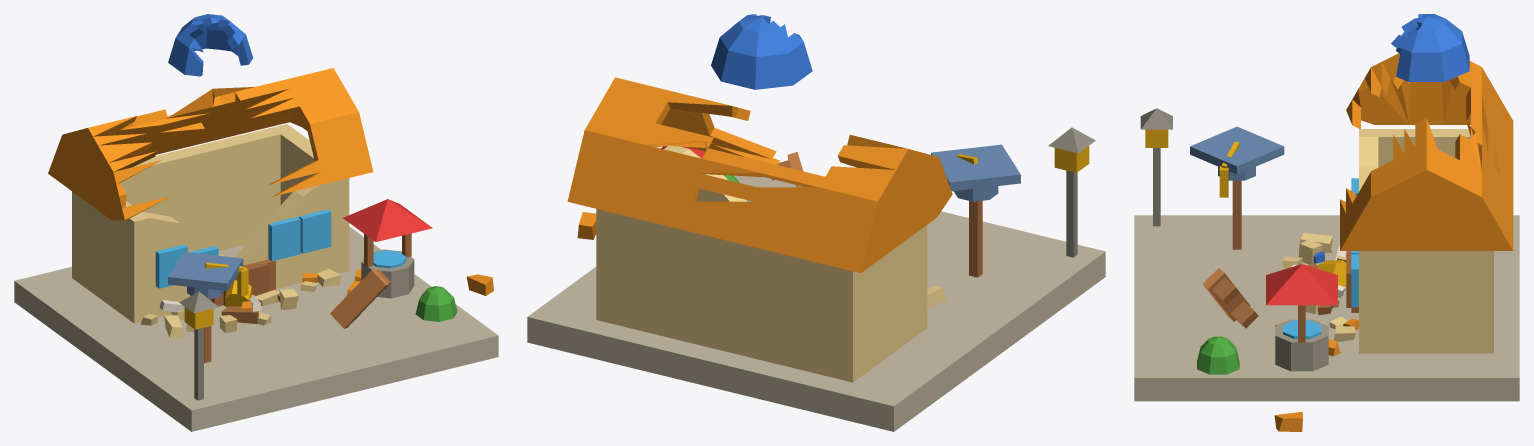
The model's file is university_t1_v3_dmg1.glb.
The picture shows the model from 3 angles, left to right: view 1: azimuth 30°, elevation 25°; view 2: azimuth 150°, elevation 25°; view 3: azimuth 270°, elevation 25°; orthographic projection. The views are drawn at different scales.
Parts seen in each view (by area): view 1: university_t1_v3_dmg1; view 2: university_t1_v3_dmg1; view 3: university_t1_v3_dmg1.
Boxes of the visible parts, x1,y1,x2,y2 form: university_t1_v3_dmg1: [14, 14, 498, 431]; university_t1_v3_dmg1: [527, 14, 1105, 431]; university_t1_v3_dmg1: [1134, 14, 1519, 431].
Bounding box in the file's own units: 0.7218 × 0.52 × 0.6.
Materials: 1 (1 with a texture image).
